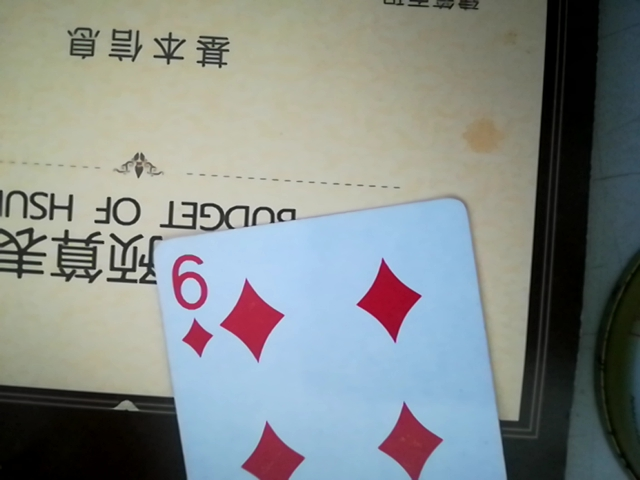fk 6: (149, 192, 519, 480)
